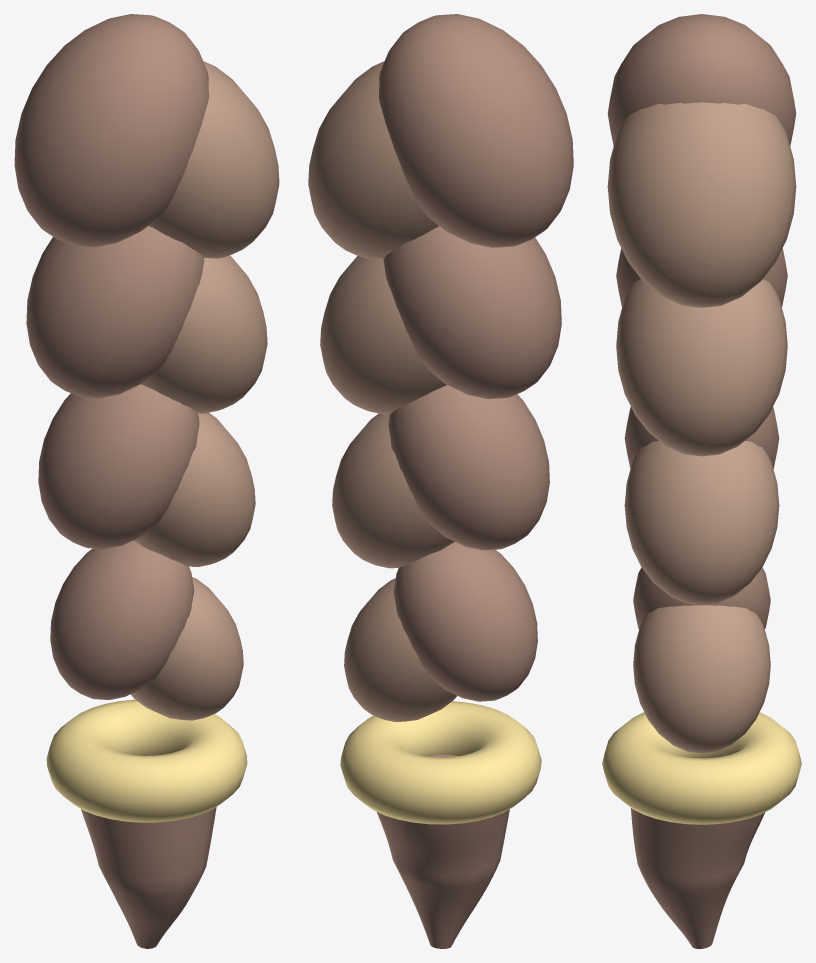
File: hair_braid.fbx
3 views of the same model, side by side, from view 1: azimuth 30°, elevation 25°; view 2: azimuth 150°, elevation 25°; view 3: azimuth 270°, elevation 25° (orthographic).
Parts seen in each view (by area): view 1: Braid_Lobe_0_-1, Braid_Lobe_1_-1, Braid_Lobe_2_-1, Braid_Tie, Braid_Lobe_3_-1, Braid_Lobe_0_1, Braid_Lobe_1_1, Braid_Tip, Braid_Lobe_2_1, Braid_Lobe_3_1; view 2: Braid_Lobe_0_-1, Braid_Lobe_1_-1, Braid_Lobe_2_-1, Braid_Tie, Braid_Lobe_3_-1, Braid_Lobe_0_1, Braid_Lobe_1_1, Braid_Tip, Braid_Lobe_2_1, Braid_Lobe_3_1; view 3: Braid_Lobe_0_1, Braid_Lobe_1_1, Braid_Lobe_2_1, Braid_Lobe_3_1, Braid_Tie, Braid_Lobe_0_-1, Braid_Tip, Braid_Lobe_3_-1, Braid_Lobe_2_-1, Braid_Lobe_1_-1.
Part boxes in pixels (x1,y1,x2,y2): Braid_Lobe_0_-1: [14, 14, 208, 247]; Braid_Lobe_1_-1: [26, 226, 204, 398]; Braid_Lobe_2_-1: [38, 384, 199, 549]; Braid_Tie: [46, 699, 247, 822]; Braid_Lobe_3_-1: [50, 540, 194, 699]; Braid_Lobe_0_1: [148, 61, 279, 258]; Braid_Lobe_1_1: [141, 255, 267, 413]; Braid_Tip: [81, 807, 216, 948]; Braid_Lobe_2_1: [133, 412, 255, 566]; Braid_Lobe_3_1: [131, 577, 243, 720]; Braid_Lobe_0_-1: [378, 14, 573, 247]; Braid_Lobe_1_-1: [383, 226, 561, 398]; Braid_Lobe_2_-1: [388, 385, 549, 550]; Braid_Tie: [340, 701, 541, 824]; Braid_Lobe_3_-1: [393, 542, 537, 701]; Braid_Lobe_0_1: [308, 61, 438, 259]; Braid_Lobe_1_1: [320, 256, 446, 414]; Braid_Tip: [377, 754, 509, 948]; Braid_Lobe_2_1: [332, 413, 454, 568]; Braid_Lobe_3_1: [344, 578, 456, 721]; Braid_Lobe_0_1: [607, 102, 796, 307]; Braid_Lobe_1_1: [616, 279, 787, 456]; Braid_Lobe_2_1: [624, 441, 779, 604]; Braid_Lobe_3_1: [633, 605, 770, 753]; Braid_Tie: [602, 712, 801, 824]; Braid_Lobe_0_-1: [607, 14, 796, 145]; Braid_Tip: [631, 758, 764, 948]; Braid_Lobe_3_-1: [633, 567, 770, 628]; Braid_Lobe_2_-1: [624, 407, 779, 468]; Braid_Lobe_1_-1: [616, 248, 787, 306].
Bounding box in the file's own units: 0.0498 × 0.1827 × 0.036.
